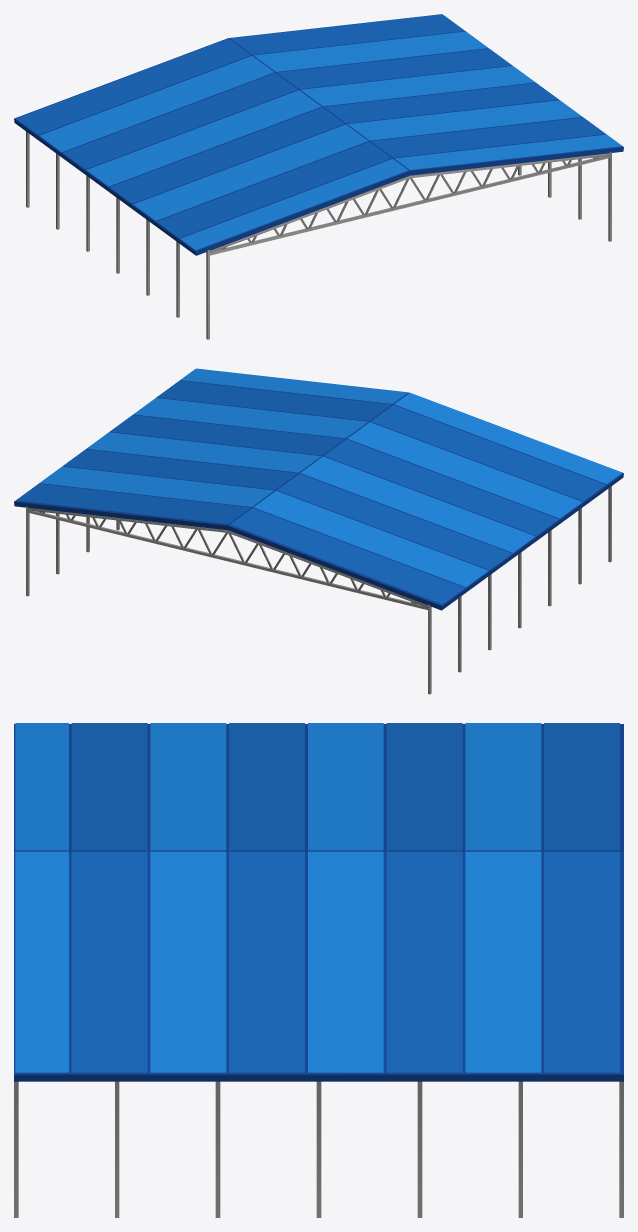
The model's file is hangar_009.glb.
The picture shows the model from 3 angles, top to bottom: view 1: azimuth 30°, elevation 25°; view 2: azimuth 150°, elevation 25°; view 3: azimuth 270°, elevation 25°; orthographic projection. The views are drawn at different scales.
Visible parts, largest first — view 1: hangar_009; view 2: hangar_009; view 3: hangar_009.
Boxes of the visible parts, left/top/right/bottom form: hangar_009: left=14, top=14, right=623, bottom=339; hangar_009: left=14, top=368, right=623, bottom=694; hangar_009: left=14, top=723, right=623, bottom=1217.
Size of the model in its own units: 23.69 by 6.34 by 17.41.
Materials: 1 (1 with a texture image).
